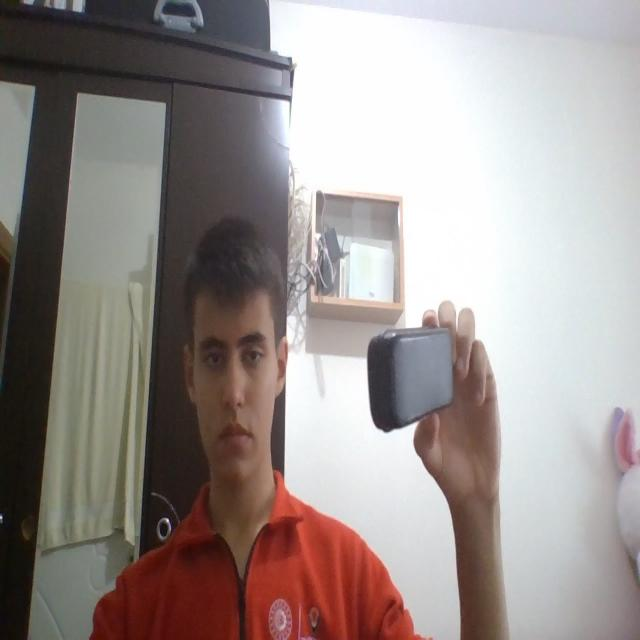glasses-box: (368, 324, 454, 434)
